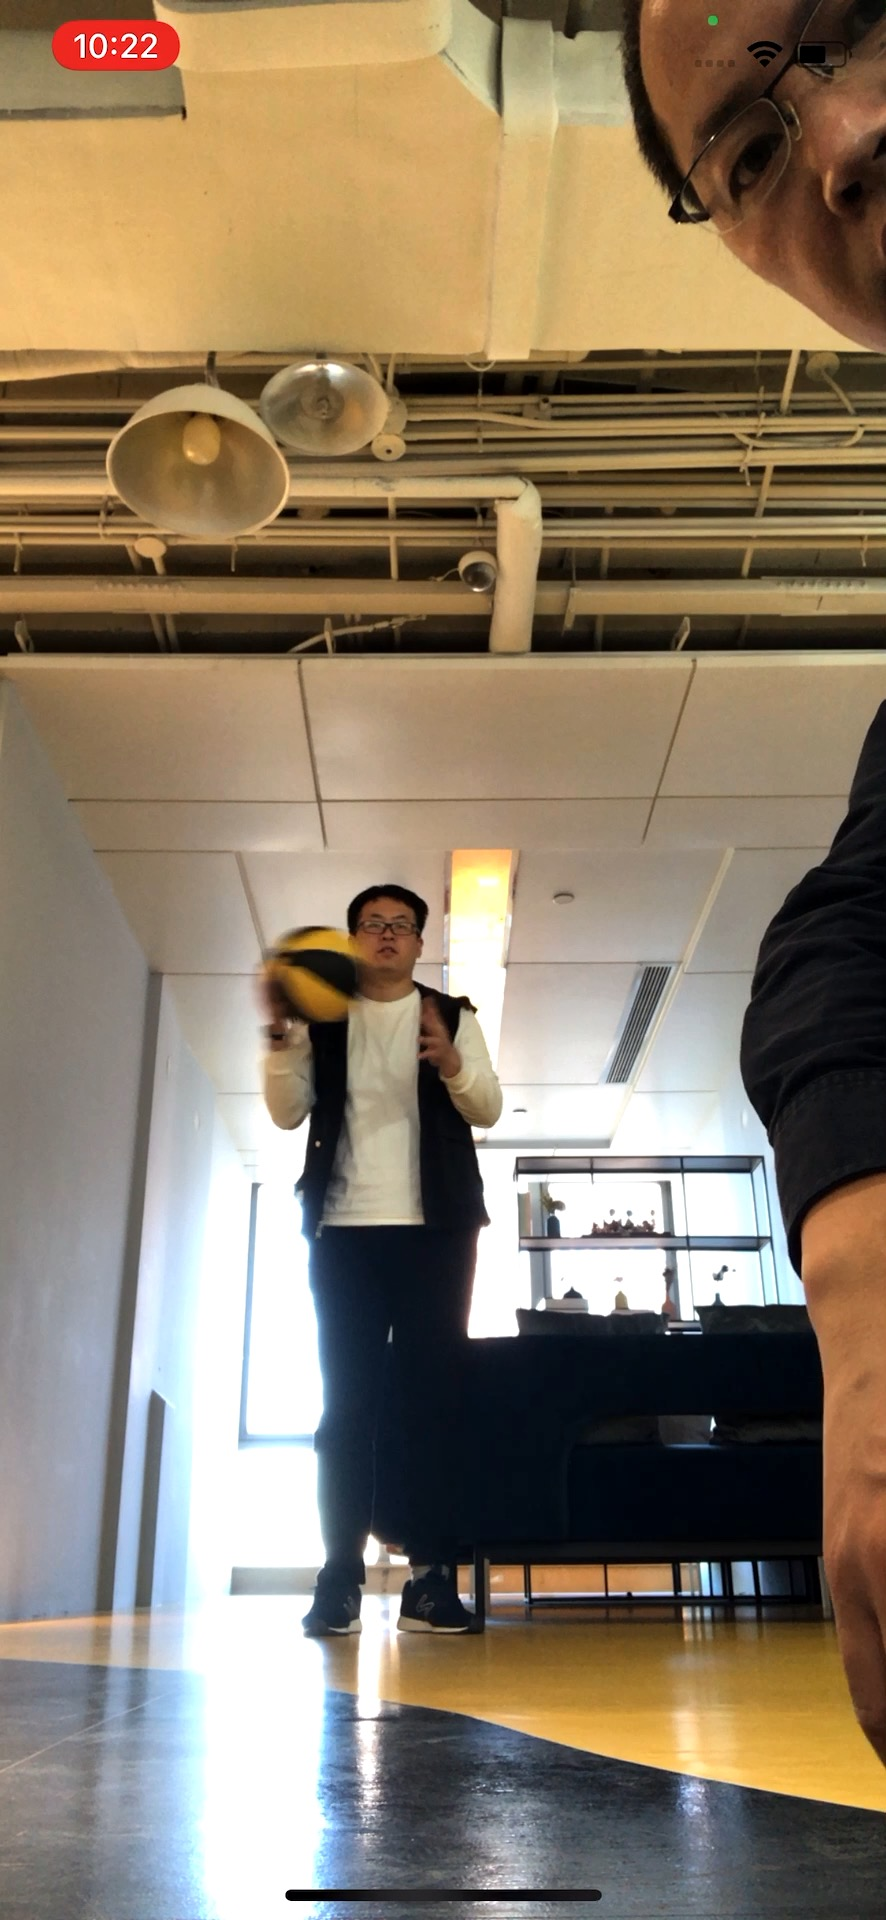ball: (266, 923, 367, 1025)
